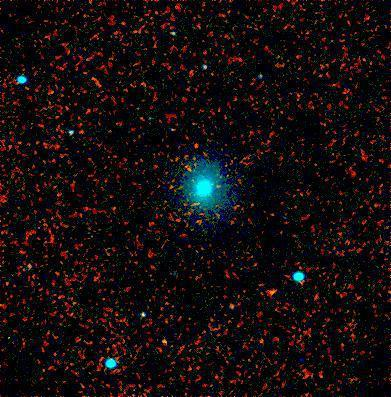star: (258, 277, 288, 307)
